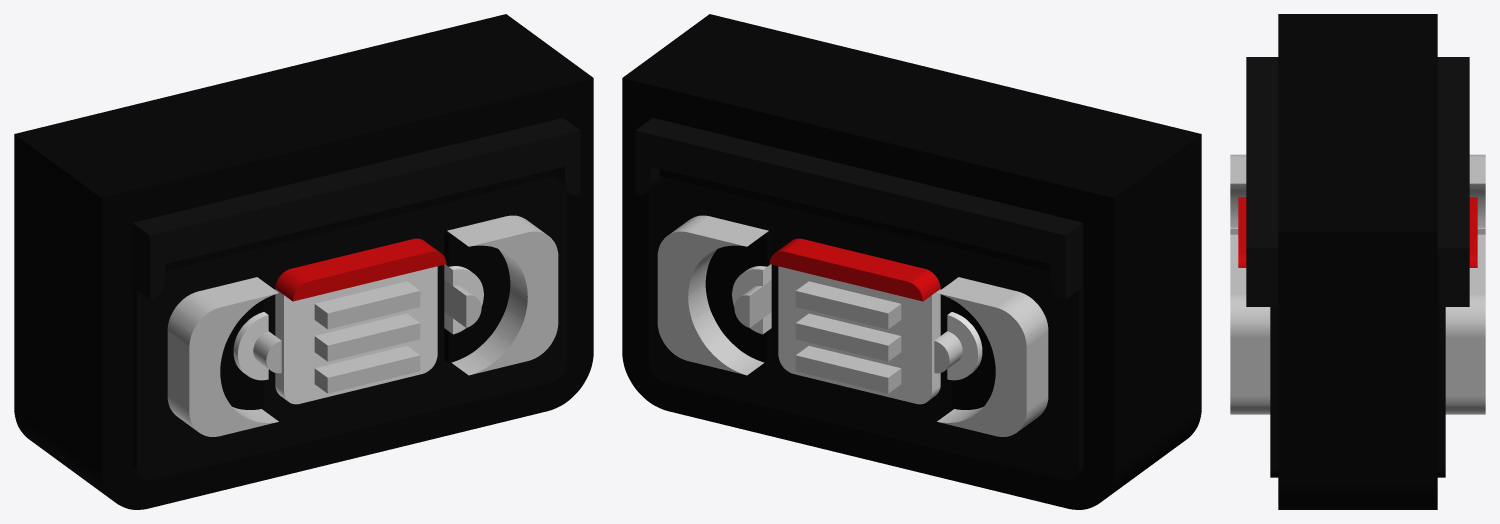
3 views of the same model, side by side, from view 1: azimuth 30°, elevation 25°; view 2: azimuth 150°, elevation 25°; view 3: azimuth 270°, elevation 25° (orthographic). The views are drawn at different scales.
Visible parts, largest first — view 1: U+1F4FC_layer00_obj00, U+1F4FC_layer01_obj00, U+1F4FC_layer06_obj00, U+1F4FC_layer04_obj00, U+1F4FC_layer03_obj00, U+1F4FC_layer02_obj00, U+1F4FC_layer05_obj00; view 2: U+1F4FC_layer00_obj00, U+1F4FC_layer01_obj00, U+1F4FC_layer06_obj00, U+1F4FC_layer04_obj00, U+1F4FC_layer03_obj00, U+1F4FC_layer02_obj00, U+1F4FC_layer05_obj00; view 3: U+1F4FC_layer00_obj00, U+1F4FC_layer04_obj00, U+1F4FC_layer06_obj00, U+1F4FC_layer01_obj00, U+1F4FC_layer05_obj00.
Part boxes in pixels (x1,y1,x2,y2): U+1F4FC_layer00_obj00: (14, 14, 593, 509); U+1F4FC_layer01_obj00: (132, 177, 567, 479); U+1F4FC_layer06_obj00: (167, 215, 558, 436); U+1F4FC_layer04_obj00: (132, 118, 580, 299); U+1F4FC_layer03_obj00: (233, 264, 483, 404); U+1F4FC_layer02_obj00: (165, 169, 556, 409); U+1F4FC_layer05_obj00: (275, 238, 446, 301); U+1F4FC_layer00_obj00: (622, 14, 1201, 509); U+1F4FC_layer01_obj00: (648, 177, 1083, 479); U+1F4FC_layer06_obj00: (657, 215, 1048, 436); U+1F4FC_layer04_obj00: (635, 118, 1083, 299); U+1F4FC_layer03_obj00: (732, 264, 982, 404); U+1F4FC_layer02_obj00: (659, 169, 1050, 409); U+1F4FC_layer05_obj00: (769, 238, 940, 301); U+1F4FC_layer00_obj00: (1278, 14, 1437, 509); U+1F4FC_layer04_obj00: (1246, 57, 1469, 306); U+1F4FC_layer06_obj00: (1230, 154, 1485, 414); U+1F4FC_layer01_obj00: (1270, 307, 1445, 477); U+1F4FC_layer05_obj00: (1238, 197, 1477, 267).
Bounding box in the file's own units: 0.6491 × 0.4058 × 0.32.
